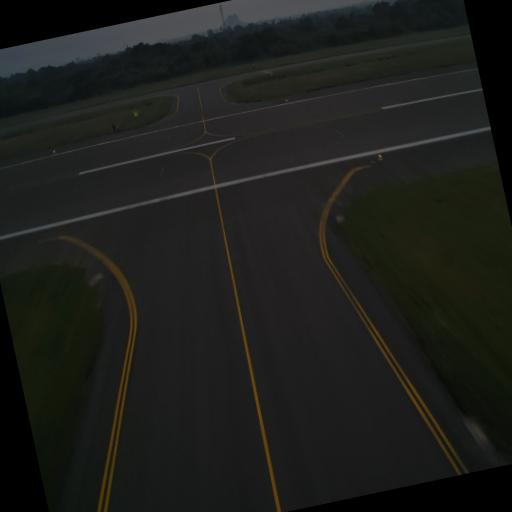on: (376, 150, 383, 162), (282, 95, 290, 104), (50, 146, 57, 156)
